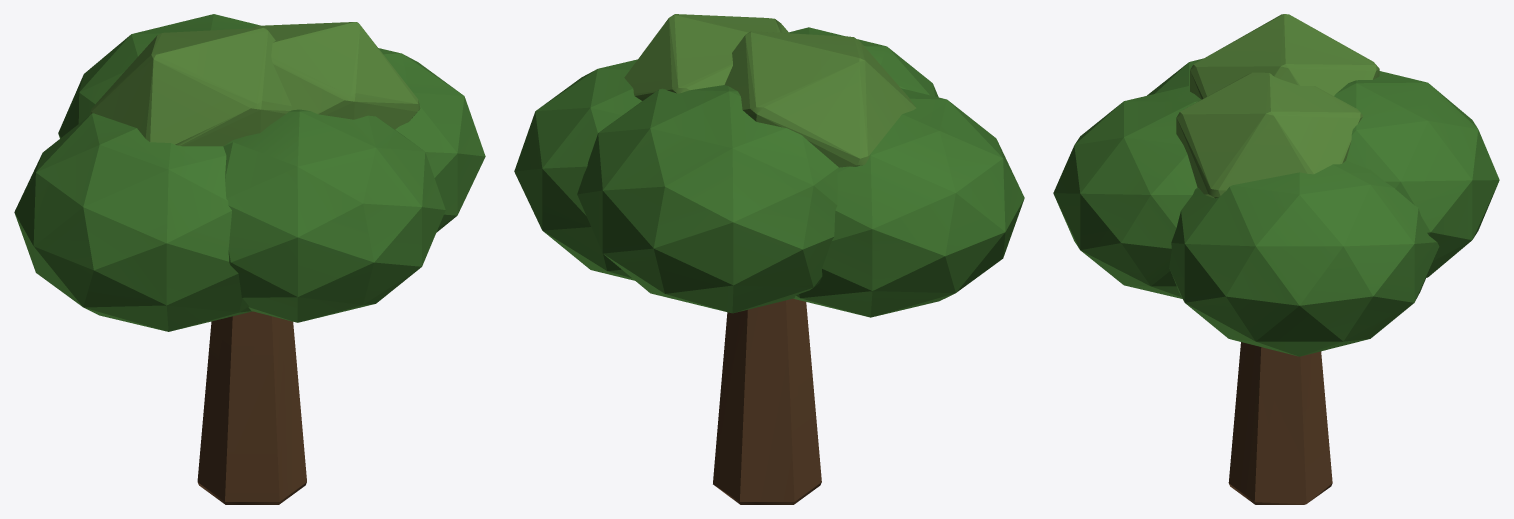
The model's file is prop_oak_lod1.glb.
3 views of the same model, side by side, from view 1: azimuth 30°, elevation 25°; view 2: azimuth 150°, elevation 25°; view 3: azimuth 270°, elevation 25° (orthographic). The views are drawn at different scales.
Parts seen in each view (by area): view 1: prop_oak_lod1; view 2: prop_oak_lod1; view 3: prop_oak_lod1.
Boxes of the visible parts, x1=… form: prop_oak_lod1: x1=14, y1=14, x2=485, y2=504; prop_oak_lod1: x1=514, y1=14, x2=1024, y2=504; prop_oak_lod1: x1=1053, y1=14, x2=1499, y2=504.
Size of the model in its own units: 4.72 by 4.51 by 4.25.
